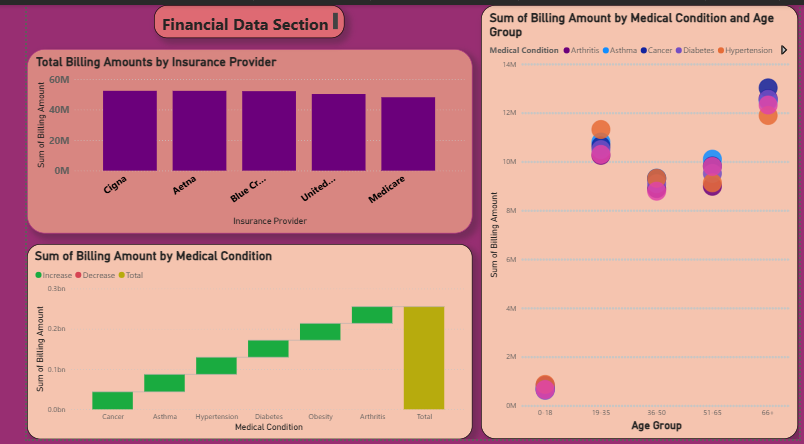

The page's visual inventory and layout, read from the dashboard file:
{"tool":"powerbi","page":{"name":"Financial Data Section","canvas":[1280,720],"ordinal":2},"visuals":[{"type":"clusteredColumnChart","title":"Total Billing Amounts by Insurance Provider","fields":{"Category":["healthcare_dataset1.Insurance Provider"],"Y":["Sum(healthcare_dataset1.Billing Amount)"]},"box":[0,72.8,739.4,305.8],"z":0},{"type":"waterfallChart","fields":{"Y":["Sum(healthcare_dataset1.Billing Amount)"],"Category":["healthcare_dataset1.Medical Condition"]},"box":[0,396.4,739.4,323.6],"z":1000},{"type":"scatterChart","fields":{"X":["healthcare_dataset1.Age Group"],"Y":["Sum(healthcare_dataset1.Billing Amount)"],"Series":["healthcare_dataset1.Medical Condition"]},"box":[754,0,525.8,720],"z":2000},{"type":"textbox","box":[210.3,0,315.5,55],"z":3000}]}

Visuals, with their boxes in screenshot pixels (x1, y1, x2, y2), scaled from the page's 1280x720 canvas onto the 804x444 screenshot:
"Total Billing Amounts by Insurance Provider" clusteredColumnChart: {"left": 0, "top": 45, "right": 464, "bottom": 233}
waterfallChart - Sum(healthcare_dataset1.Billing Amount) x healthcare_dataset1.Medical Condition: {"left": 0, "top": 244, "right": 464, "bottom": 443}
scatterChart - healthcare_dataset1.Age Group x Sum(healthcare_dataset1.Billing Amount): {"left": 474, "top": 0, "right": 803, "bottom": 443}
textbox: {"left": 132, "top": 0, "right": 330, "bottom": 34}
